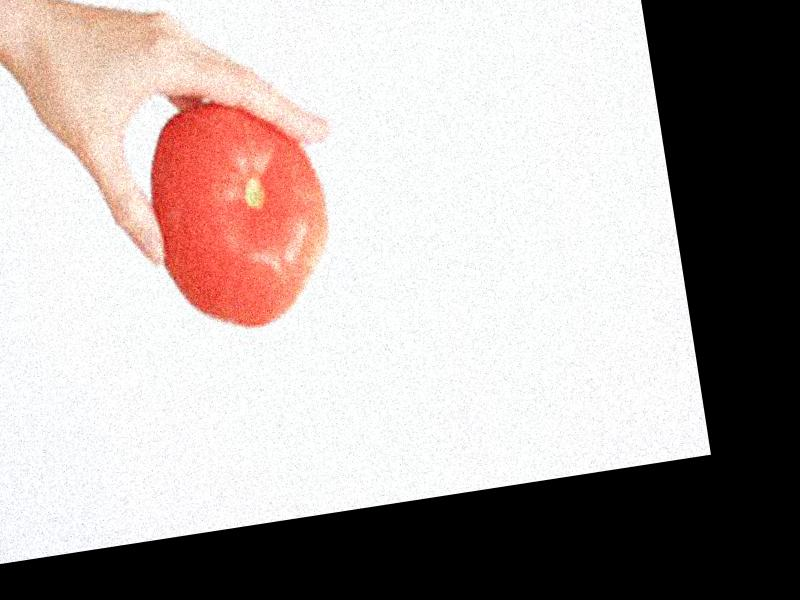Tomato: (140, 93, 343, 338)
